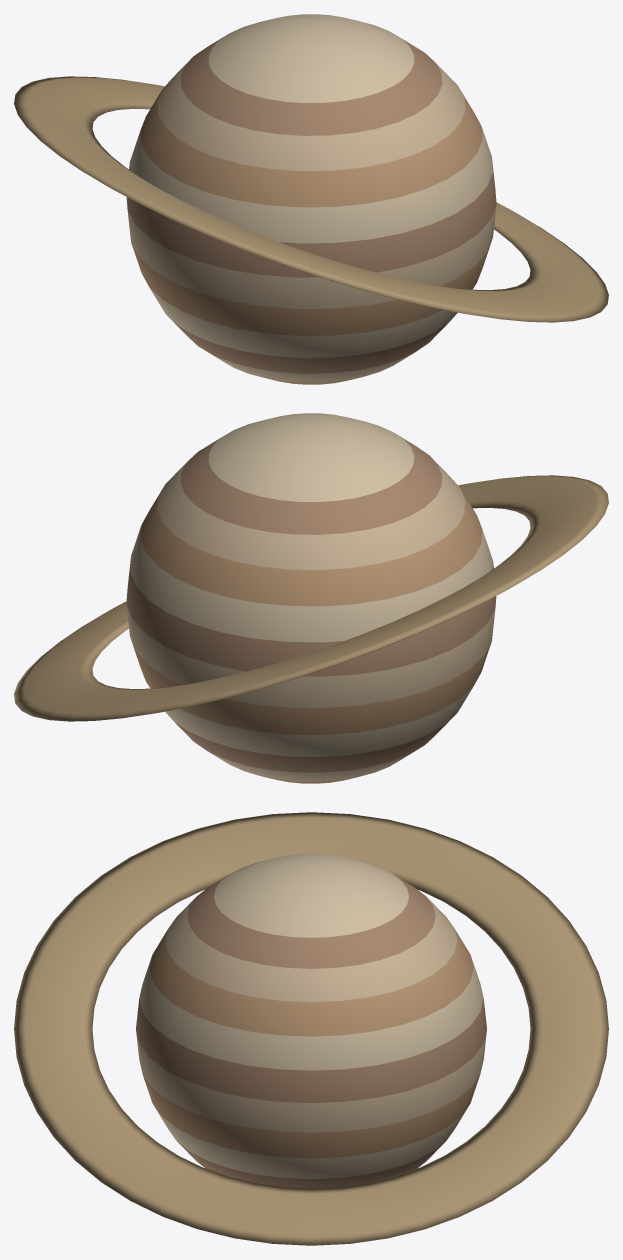
The model's file is planet_saturn.glb.
3 views of the same model, one above another, from view 1: azimuth 30°, elevation 25°; view 2: azimuth 150°, elevation 25°; view 3: azimuth 270°, elevation 25° (orthographic). The views are drawn at different scales.
Parts seen in each view (by area): view 1: body, rings; view 2: body, rings; view 3: body, rings.
Boxes of the visible parts, left/top/right/bottom form: body: left=126, top=14, right=496, bottom=384; rings: left=14, top=76, right=608, bottom=322; body: left=126, top=413, right=496, bottom=783; rings: left=14, top=475, right=608, bottom=721; body: left=136, top=853, right=486, bottom=1188; rings: left=14, top=812, right=608, bottom=1245.
Size of the model in its own units: 2.67 by 1.7 by 2.88.
